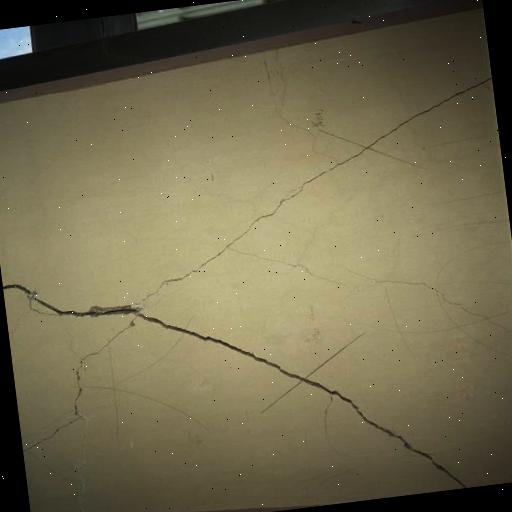spalling: (9, 276, 476, 487), (160, 71, 488, 288)
